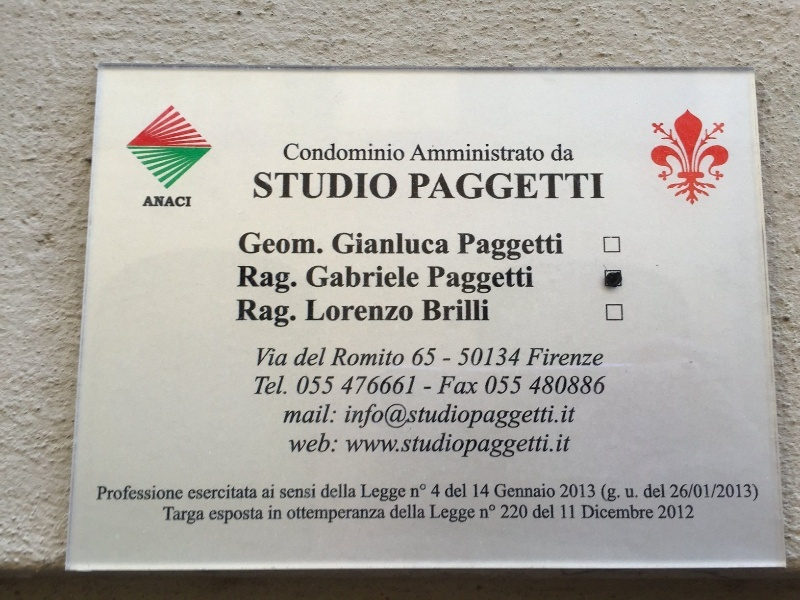text: (353, 395, 368, 430), (369, 395, 384, 430), (385, 395, 400, 430), (401, 395, 416, 430), (417, 395, 432, 430), (433, 395, 448, 430), (449, 395, 464, 430), (465, 395, 480, 430), (481, 395, 496, 430), (497, 395, 512, 430), (513, 395, 528, 430), (529, 395, 544, 430), (545, 395, 560, 430), (561, 395, 576, 430), (353, 424, 368, 459), (369, 424, 384, 459), (385, 424, 400, 459), (401, 424, 416, 459), (417, 424, 432, 459), (433, 424, 448, 459), (449, 424, 464, 459), (465, 424, 480, 459), (481, 424, 496, 459), (497, 424, 512, 459), (513, 424, 528, 459), (529, 424, 544, 459), (545, 424, 560, 459), (561, 424, 576, 459), (465, 234, 480, 266), (481, 234, 496, 266), (497, 234, 512, 266), (513, 234, 528, 266), (529, 234, 544, 266), (545, 234, 560, 266), (241, 266, 256, 296), (257, 266, 272, 296), (273, 266, 288, 296), (241, 300, 256, 329), (257, 300, 272, 329), (273, 300, 288, 329), (449, 266, 464, 294), (465, 266, 480, 294), (481, 266, 496, 294), (497, 266, 512, 294), (513, 266, 528, 294), (257, 172, 272, 200), (273, 172, 288, 200), (289, 172, 304, 200), (305, 172, 320, 200), (321, 172, 336, 200), (337, 172, 352, 200), (353, 172, 368, 200), (369, 172, 384, 200), (434, 266, 448, 294), (417, 173, 432, 199), (433, 173, 448, 199), (449, 173, 464, 199), (465, 173, 480, 199), (481, 173, 496, 199), (497, 173, 512, 199), (513, 173, 528, 199), (529, 173, 544, 199), (545, 173, 560, 199), (561, 173, 576, 199), (577, 173, 592, 199), (289, 430, 304, 454), (305, 430, 320, 454), (321, 430, 336, 454), (305, 300, 320, 323), (321, 300, 336, 323), (337, 300, 352, 323), (353, 300, 368, 323), (369, 300, 384, 323), (385, 300, 400, 323), (241, 232, 256, 255), (257, 232, 272, 255), (273, 232, 288, 255), (289, 232, 304, 255), (305, 232, 320, 255), (337, 232, 352, 255), (353, 232, 368, 255), (369, 232, 384, 255), (385, 232, 400, 255), (401, 232, 416, 255), (417, 232, 432, 255), (433, 232, 448, 255), (385, 172, 397, 200), (433, 299, 448, 321), (449, 299, 464, 321), (465, 299, 480, 321), (321, 266, 336, 288), (337, 266, 352, 288), (353, 266, 368, 288), (369, 266, 384, 288), (385, 266, 400, 288), (401, 266, 416, 288), (289, 402, 304, 424), (305, 402, 320, 424), (321, 402, 336, 424), (593, 173, 605, 199), (306, 266, 320, 288), (273, 376, 289, 395), (257, 348, 272, 368), (273, 348, 288, 368), (177, 506, 192, 526), (337, 348, 352, 367), (353, 348, 368, 367), (369, 348, 384, 367), (385, 348, 400, 367), (305, 348, 320, 367), (257, 376, 272, 395), (417, 348, 432, 367), (545, 348, 560, 367), (561, 348, 576, 367), (577, 348, 592, 367), (545, 376, 560, 395), (561, 376, 576, 395), (577, 376, 592, 395), (497, 376, 512, 395), (353, 376, 368, 395), (369, 376, 384, 395), (385, 376, 400, 395), (305, 376, 320, 395), (449, 376, 464, 395), (433, 504, 448, 523), (449, 504, 464, 523), (401, 300, 413, 323), (289, 143, 304, 161), (305, 143, 320, 161), (321, 143, 336, 161), (337, 143, 352, 161), (353, 143, 368, 161), (369, 143, 384, 161), (385, 143, 400, 161), (465, 348, 480, 366), (481, 348, 496, 366), (497, 348, 512, 366), (193, 482, 208, 500), (209, 482, 224, 500), (225, 482, 240, 500), (241, 482, 256, 500), (369, 484, 384, 502), (385, 484, 400, 502), (721, 484, 736, 502), (737, 484, 752, 502), (530, 348, 544, 367), (401, 376, 415, 395), (321, 376, 335, 395), (465, 376, 479, 395), (609, 483, 623, 502), (163, 506, 176, 526), (193, 506, 206, 526), (433, 144, 448, 161), (449, 144, 464, 161), (465, 144, 480, 161), (481, 144, 496, 161), (497, 144, 512, 161), (513, 144, 528, 161), (529, 144, 544, 161), (113, 484, 128, 501), (129, 484, 144, 501), (145, 484, 160, 501), (161, 484, 176, 501), (209, 507, 224, 524), (225, 507, 240, 524), (241, 507, 256, 524), (593, 376, 606, 395), (289, 266, 297, 296), (337, 483, 352, 499), (289, 507, 304, 523), (305, 507, 320, 523), (321, 507, 336, 523), (337, 507, 352, 523), (353, 507, 368, 523), (369, 507, 384, 523), (418, 144, 432, 161), (561, 144, 575, 161), (98, 484, 112, 501), (289, 300, 297, 329), (593, 348, 605, 367), (289, 484, 304, 499), (401, 504, 416, 519), (561, 483, 576, 498), (577, 483, 592, 498), (673, 484, 688, 499), (561, 504, 576, 519), (322, 483, 336, 499), (422, 299, 432, 321), (449, 484, 464, 498), (497, 484, 512, 498), (513, 484, 528, 498), (529, 484, 544, 498), (673, 505, 688, 519), (481, 503, 495, 518), (593, 505, 608, 519), (609, 505, 624, 519), (625, 505, 640, 519), (465, 504, 476, 523), (481, 299, 490, 321), (658, 505, 672, 519), (690, 484, 704, 498), (513, 504, 527, 518), (458, 234, 464, 266), (409, 173, 416, 199), (347, 424, 352, 459), (487, 376, 496, 395), (513, 376, 522, 395), (529, 266, 535, 294), (436, 484, 448, 498), (641, 505, 653, 519), (161, 197, 176, 208), (177, 197, 192, 208), (305, 484, 316, 499), (645, 484, 656, 499), (533, 504, 544, 519), (513, 348, 522, 366), (262, 483, 272, 499), (545, 484, 556, 498), (501, 504, 512, 518), (581, 505, 592, 519), (551, 144, 560, 161), (273, 503, 282, 520), (694, 484, 704, 499), (545, 504, 555, 519), (147, 197, 160, 208), (348, 395, 352, 430), (481, 484, 491, 498), (257, 507, 265, 524), (391, 504, 400, 519), (417, 504, 426, 519), (417, 483, 426, 498), (625, 489, 640, 498), (711, 484, 720, 499), (601, 483, 608, 502), (361, 484, 368, 502), (280, 484, 288, 499), (657, 484, 665, 499), (442, 376, 448, 395), (177, 484, 183, 501), (473, 484, 480, 498), (561, 234, 564, 266), (337, 430, 341, 454), (321, 348, 326, 367), (237, 266, 240, 296), (753, 484, 758, 502), (237, 300, 240, 329), (689, 505, 695, 519), (401, 348, 405, 367), (540, 376, 544, 395), (411, 483, 416, 498), (705, 484, 710, 499), (284, 143, 288, 161), (401, 143, 405, 161), (188, 482, 192, 500), (401, 484, 405, 502), (577, 395, 579, 430), (333, 232, 336, 255), (285, 402, 288, 424), (301, 348, 304, 367), (433, 348, 436, 367), (301, 376, 304, 395), (254, 172, 256, 200), (717, 484, 720, 502), (269, 503, 272, 520), (353, 483, 356, 499), (321, 232, 323, 255), (593, 483, 596, 498), (417, 266, 419, 288), (337, 402, 339, 424), (414, 348, 416, 367), (430, 504, 432, 523), (385, 507, 387, 523), (670, 484, 672, 499), (465, 484, 467, 498), (494, 484, 496, 498), (239, 232, 240, 255), (449, 232, 450, 255), (425, 387, 432, 390), (289, 348, 290, 368), (463, 348, 464, 366), (257, 482, 258, 500), (273, 483, 274, 499), (287, 507, 288, 523), (443, 358, 448, 361), (479, 503, 480, 518), (447, 484, 448, 498), (449, 358, 450, 361)
